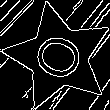O_SE: (26, 27, 91, 87)
